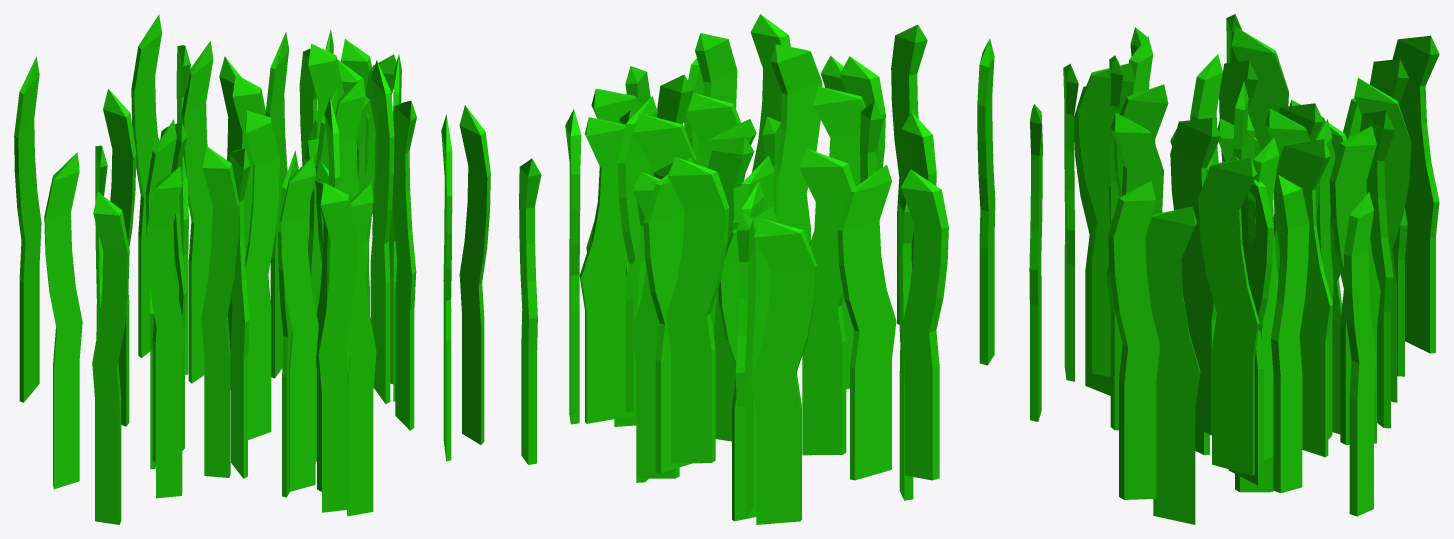
The model's file is grassLightGreen.fbx.
3 renders of one model, left to right at view 1: azimuth 30°, elevation 25°; view 2: azimuth 150°, elevation 25°; view 3: azimuth 270°, elevation 25°, orthographic. The views are drawn at different scales.
Visible parts, largest first — view 1: grassLightGreen.074; view 2: grassLightGreen.074; view 3: grassLightGreen.074.
Boxes of the visible parts, x1,y1,x2,y2 form: grassLightGreen.074: [14, 14, 490, 524]; grassLightGreen.074: [519, 14, 948, 524]; grassLightGreen.074: [977, 14, 1439, 524].
Size of the model in its own units: 49.03 by 51.44 by 51.26.
